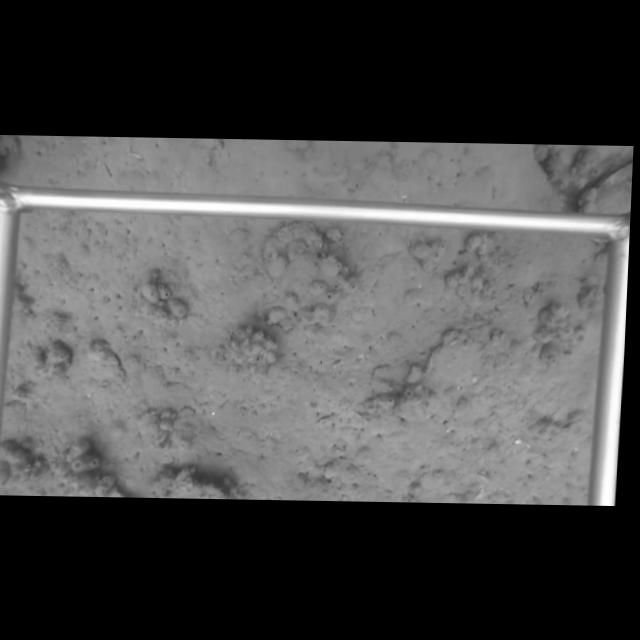Oyster-Closed: (396, 327, 492, 425), (552, 415, 587, 434)
Oyster-Indeterminate: (257, 219, 341, 339), (85, 338, 127, 386)
